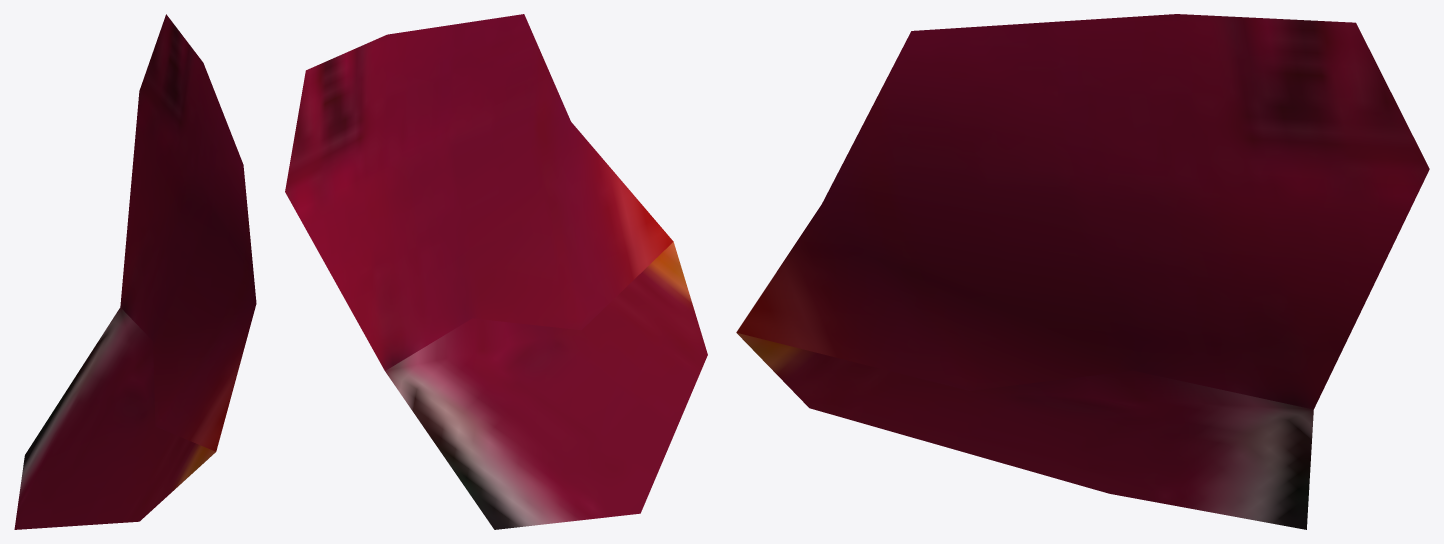
File: fuze2.obj
3 views of the same model, side by side, from view 1: azimuth 30°, elevation 25°; view 2: azimuth 150°, elevation 25°; view 3: azimuth 270°, elevation 25° (orthographic). The views are drawn at different scales.
Bounding box in the file's own units: 0.0169 × 0.0286 × 0.0276.
1 material, 1 textured.
